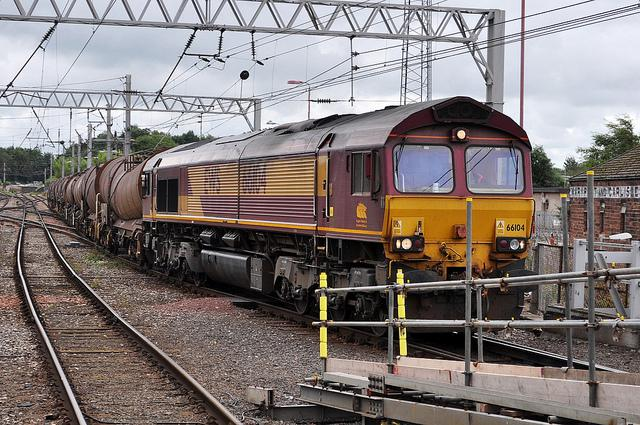Train: (47, 96, 535, 323)
